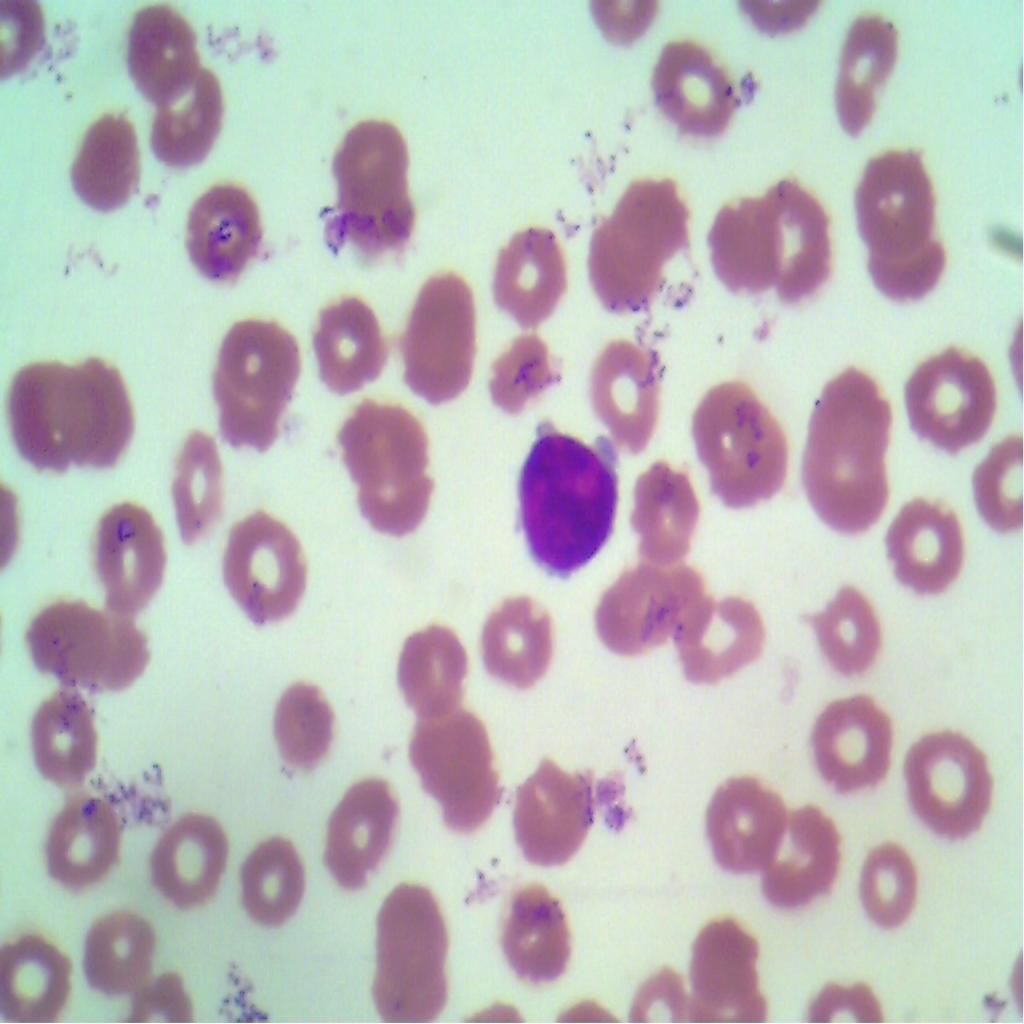Eritrosit: (898, 332, 1006, 467), (649, 34, 755, 159), (668, 584, 779, 702), (216, 511, 326, 628), (322, 127, 422, 255), (895, 724, 996, 850), (688, 380, 788, 506), (399, 268, 484, 415), (795, 428, 903, 541), (59, 95, 148, 225), (138, 788, 231, 912), (826, 14, 914, 145), (756, 174, 841, 308), (26, 787, 131, 895), (568, 334, 664, 452), (693, 764, 793, 877), (20, 685, 114, 805), (412, 704, 498, 829), (810, 684, 902, 799), (146, 56, 228, 184), (748, 802, 846, 908), (62, 355, 138, 488), (884, 497, 978, 602), (204, 352, 293, 462), (319, 772, 393, 904), (179, 180, 269, 288), (6, 354, 86, 475), (603, 555, 698, 655), (351, 447, 441, 551), (623, 452, 706, 564), (506, 751, 590, 859), (498, 882, 578, 995), (686, 911, 768, 1021), (699, 188, 783, 295), (471, 324, 562, 422), (584, 216, 668, 321), (852, 142, 930, 255), (315, 284, 394, 394), (390, 618, 464, 735), (101, 492, 166, 625), (798, 582, 886, 680), (162, 422, 228, 548), (488, 222, 569, 324), (268, 675, 338, 792), (811, 365, 895, 461), (79, 908, 159, 1008), (868, 216, 954, 307), (848, 832, 926, 927), (368, 938, 454, 1023), (338, 401, 426, 484), (475, 602, 553, 694), (1, 927, 71, 1023), (606, 177, 688, 258), (122, 8, 195, 98), (970, 435, 1024, 555), (221, 315, 295, 401), (83, 610, 154, 696), (238, 845, 309, 931), (33, 604, 108, 685), (379, 884, 442, 961)
Limfoblast: (518, 426, 628, 588)
